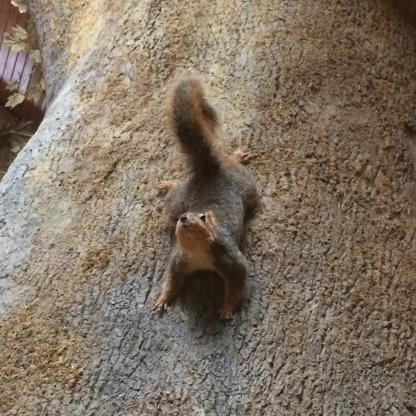Squirrel: (144, 73, 266, 331)
